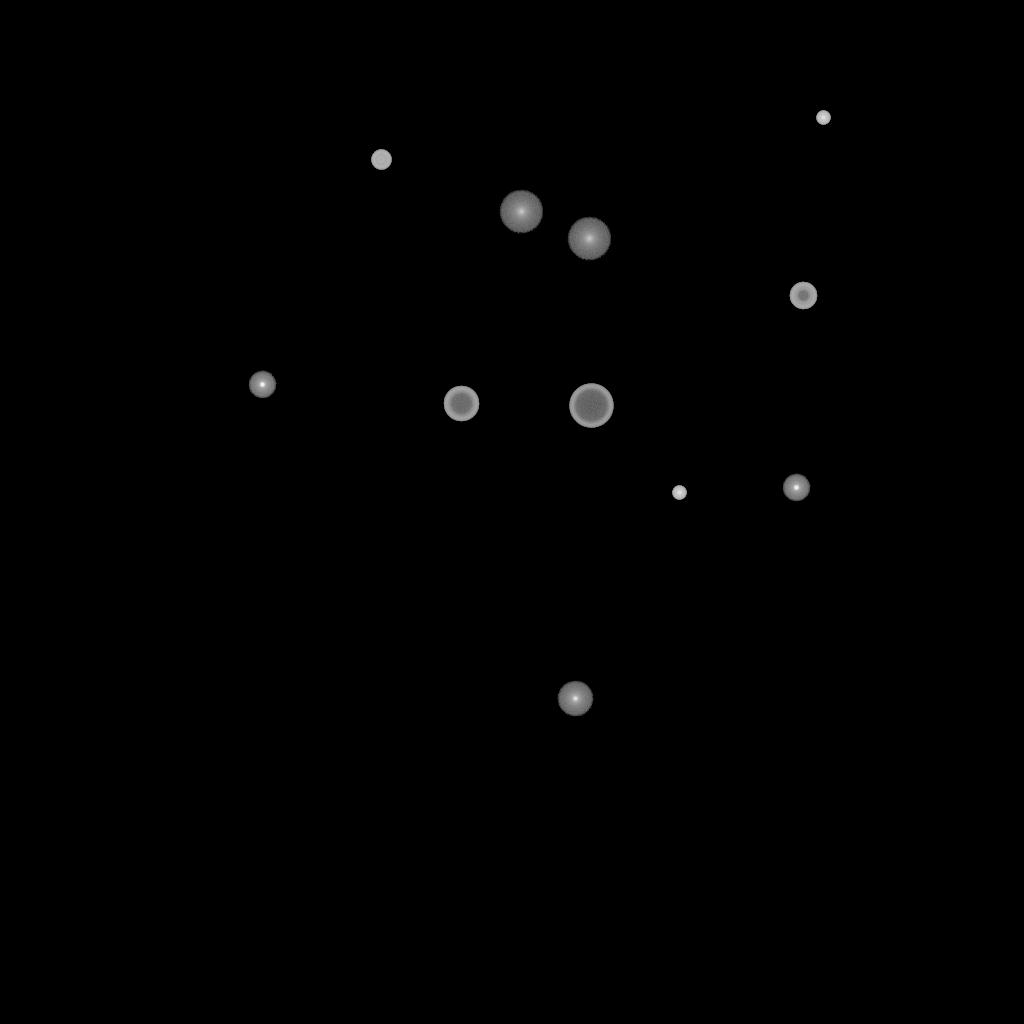depth:-10: (782, 474, 810, 502), (248, 371, 276, 399)
depth:-30: (672, 486, 686, 500), (816, 111, 830, 125)
depth:-40: (371, 150, 391, 170)
depth:-50: (789, 282, 817, 310)
depth:-60: (443, 386, 479, 422)
depth:-70: (569, 384, 613, 428)
depth:0: (557, 681, 593, 717)
depth:10: (567, 217, 611, 261), (499, 190, 543, 234)
